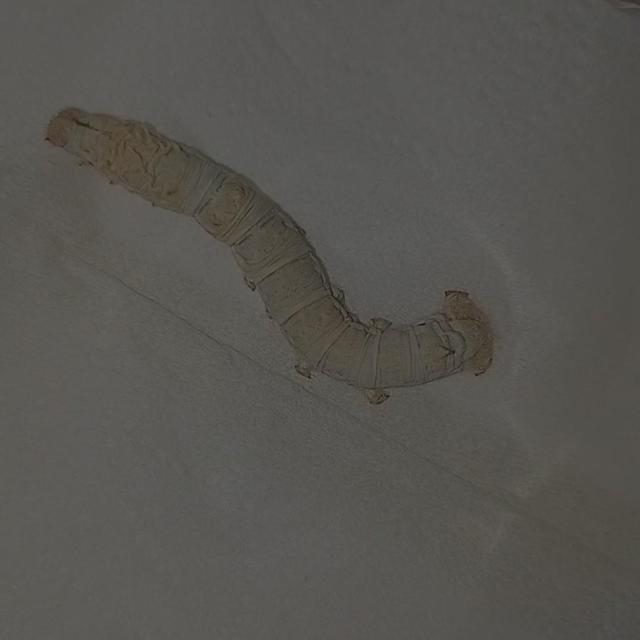Healthy: (32, 87, 507, 428)
